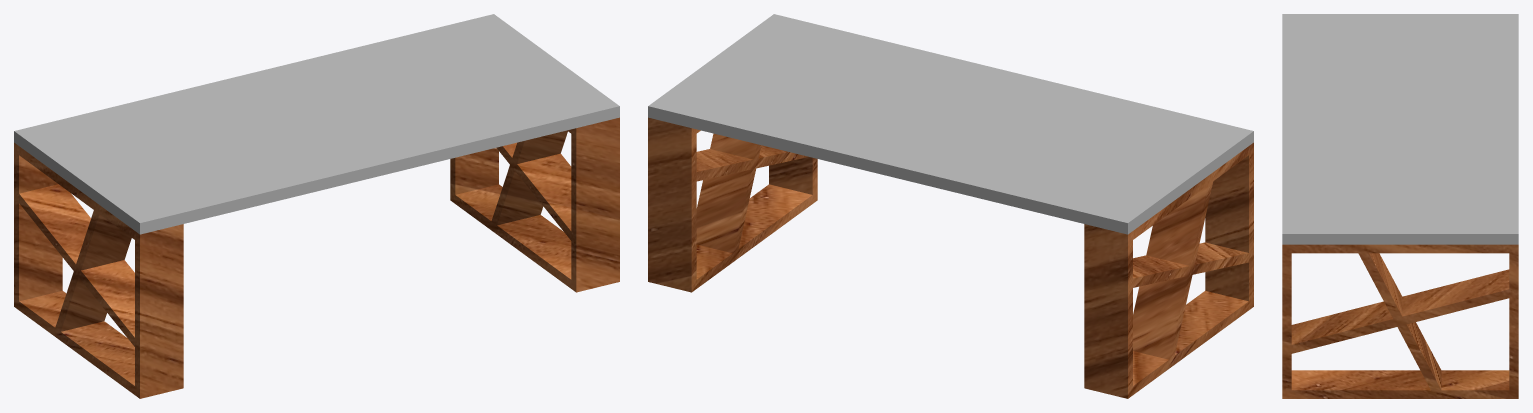
The model's file is coffeetable.gltf.
3 views of the same model, side by side, from view 1: azimuth 30°, elevation 25°; view 2: azimuth 150°, elevation 25°; view 3: azimuth 270°, elevation 25° (orthographic). The views are drawn at different scales.
Parts seen in each view (by area): view 1: green glass, Walnut leg; view 2: green glass, Walnut leg; view 3: green glass, Walnut leg.
Boxes of the visible parts, <box> form: green glass: <box>14,14,619,234</box>; Walnut leg: <box>14,117,619,398</box>; green glass: <box>648,14,1253,234</box>; Walnut leg: <box>648,117,1253,398</box>; green glass: <box>1282,14,1518,244</box>; Walnut leg: <box>1282,244,1518,398</box>.
Size of the model in its own units: 1.1 by 0.385 by 0.5.
Materials: 2 (1 with a texture image).
